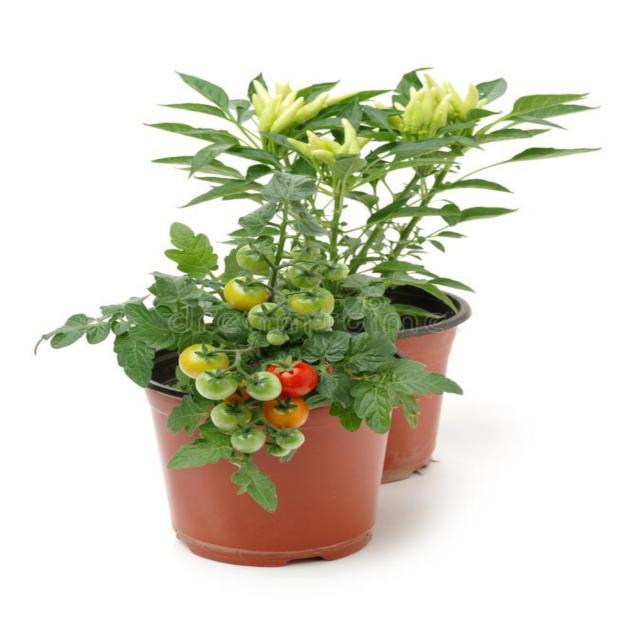plant: (41, 165, 460, 510), (152, 70, 593, 290), (430, 100, 432, 103)
